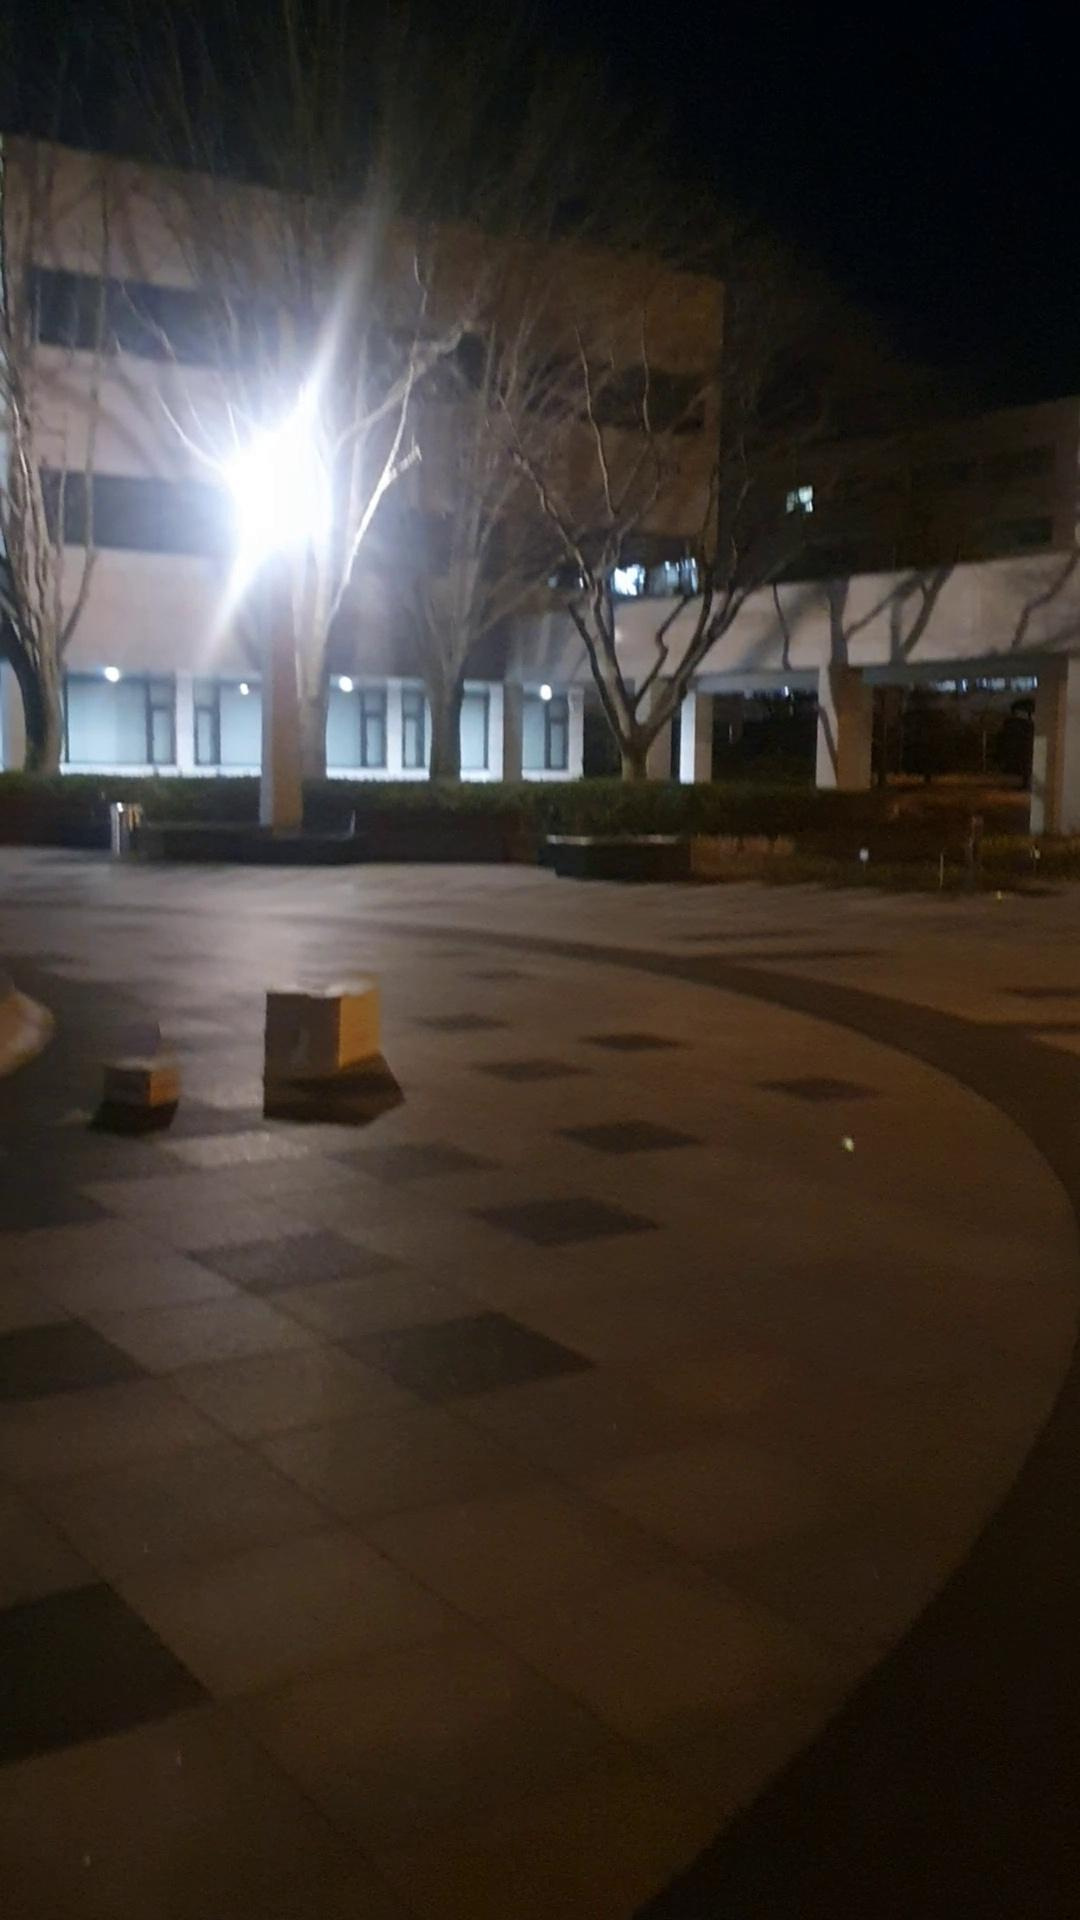Box: (253, 971, 380, 1091), (111, 1048, 189, 1113)
